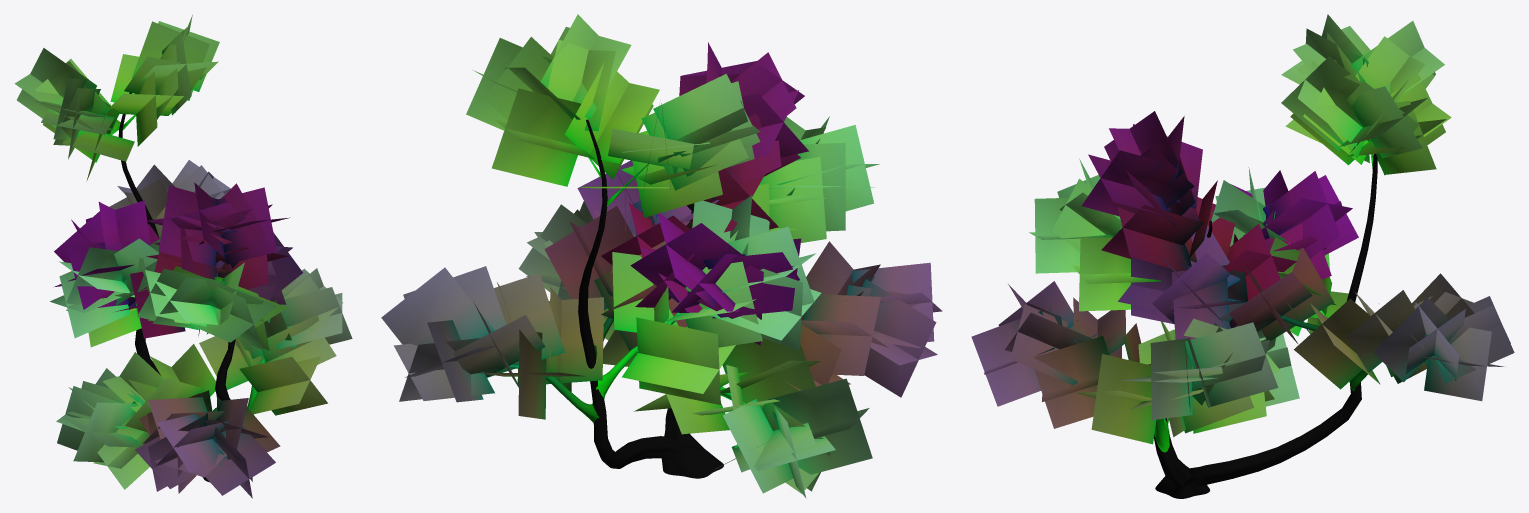
Rendered from URP_P3_Tree_8_LOD_0.fbx.
The picture shows the model from 3 angles, left to right: view 1: azimuth 30°, elevation 25°; view 2: azimuth 150°, elevation 25°; view 3: azimuth 270°, elevation 25°; orthographic projection. The views are drawn at different scales.
Visible parts, largest first — view 1: Tree_8_LOD_0; view 2: Tree_8_LOD_0; view 3: Tree_8_LOD_0.
Boxes of the visible parts, bbox=[...] form: Tree_8_LOD_0: bbox=[14, 15, 352, 498]; Tree_8_LOD_0: bbox=[381, 14, 942, 498]; Tree_8_LOD_0: bbox=[971, 14, 1514, 498].
Bounding box in the file's own units: 508 × 712 × 789.
